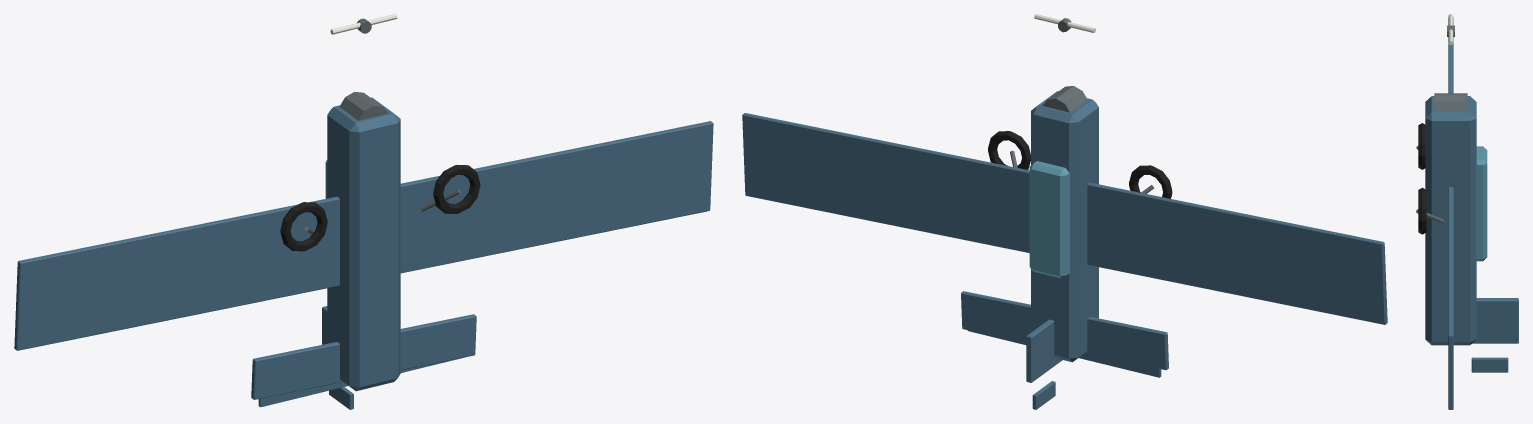
The picture shows the model from 3 angles, left to right: view 1: azimuth 30°, elevation 25°; view 2: azimuth 150°, elevation 25°; view 3: azimuth 270°, elevation 25°; orthographic projection. The views are drawn at different scales.
Parts seen in each view (by area): view 1: main_wing.028, fuselage.023, horizontal_tail.028, wheel_1.023, wheel_0.023, engine_mount_0.028, elevator.028; view 2: main_wing.028, fuselage.023, horizontal_tail.028, canopy.023, aileron_R.028, aileron_L.028, elevator.028, vertical_tail.028, wheel_1.023, engine_mount_0.028, wheel_0.023; view 3: fuselage.023, vertical_tail.028, main_wing.028, canopy.023, engine_mount_0.028, rudder.028, wheel_1.023, wheel_0.023, prop_blade.087.
Boxes of the visible parts, left/top/right/bottom form: main_wing.028: left=14, top=121, right=713, bottom=350; fuselage.023: left=327, top=97, right=400, bottom=391; horizontal_tail.028: left=251, top=314, right=476, bottom=399; wheel_1.023: left=433, top=165, right=480, bottom=213; wheel_0.023: left=280, top=202, right=327, bottom=251; engine_mount_0.028: left=339, top=92, right=388, bottom=120; elevator.028: left=258, top=357, right=464, bottom=407; main_wing.028: left=742, top=113, right=1387, bottom=324; fuselage.023: left=1031, top=91, right=1098, bottom=362; horizontal_tail.028: left=961, top=291, right=1168, bottom=370; canopy.023: left=1029, top=161, right=1069, bottom=278; aileron_R.028: left=750, top=138, right=915, bottom=202; aileron_L.028: left=1211, top=251, right=1376, bottom=314; elevator.028: left=967, top=310, right=1161, bottom=377; vertical_tail.028: left=1026, top=319, right=1062, bottom=382; wheel_1.023: left=988, top=131, right=1030, bottom=169; engine_mount_0.028: left=1042, top=86, right=1087, bottom=112; wheel_0.023: left=1129, top=165, right=1172, bottom=198; fuselage.023: left=1425, top=96, right=1476, bottom=345; vertical_tail.028: left=1472, top=298, right=1518, bottom=343; main_wing.028: left=1448, top=18, right=1453, bottom=409; canopy.023: left=1476, top=146, right=1487, bottom=261; engine_mount_0.028: left=1434, top=93, right=1467, bottom=110; rudder.028: left=1471, top=357, right=1508, bottom=372; wheel_1.023: left=1418, top=187, right=1426, bottom=234; wheel_0.023: left=1418, top=123, right=1425, bottom=169; prop_blade.087: left=1448, top=14, right=1453, bottom=45.
Bounding box in the file's own units: 15.92 × 8.69 × 2.34.
